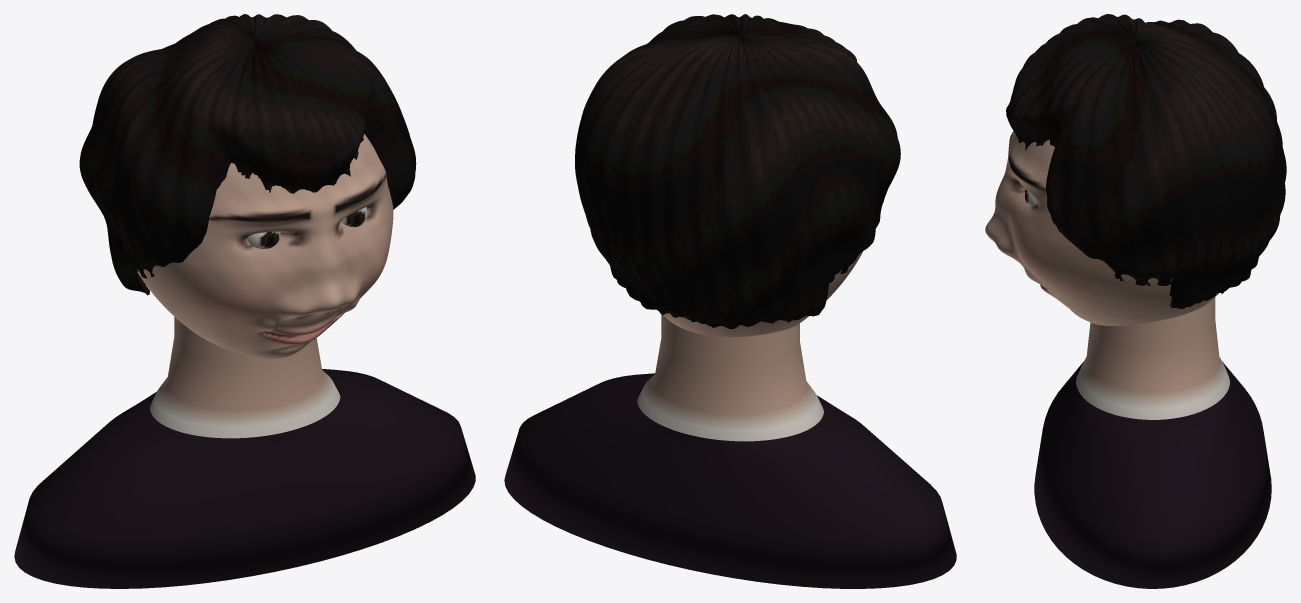
File: edith_wilson.glb
3 renders of one model, left to right at view 1: azimuth 30°, elevation 25°; view 2: azimuth 150°, elevation 25°; view 3: azimuth 270°, elevation 25°, orthographic. The views are drawn at different scales.
Parts seen in each view (by area): view 1: EdithWilsonHead; view 2: EdithWilsonHead; view 3: EdithWilsonHead.
Boxes of the visible parts, bbox=[...] form: EdithWilsonHead: bbox=[14, 14, 475, 588]; EdithWilsonHead: bbox=[504, 14, 956, 588]; EdithWilsonHead: bbox=[985, 14, 1286, 588].
Size of the model in its own units: 3.2 by 3.37 by 2.03.
